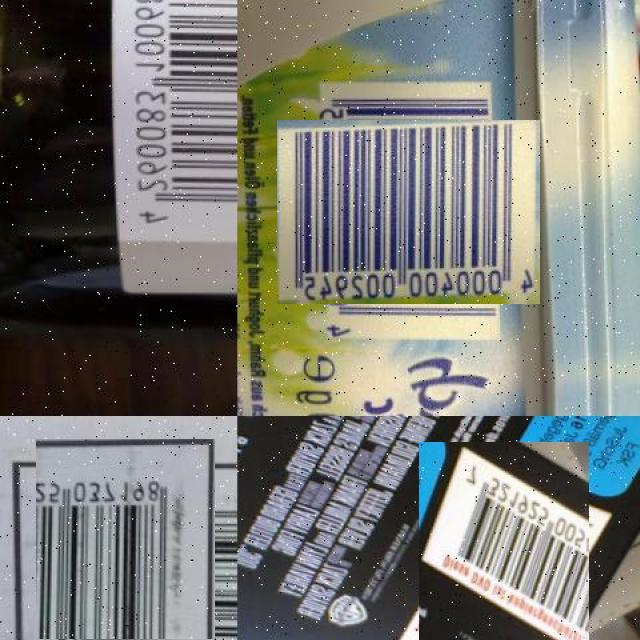Barcode: (296, 100, 520, 324), (25, 449, 227, 640), (406, 455, 604, 640), (114, 0, 238, 244)
